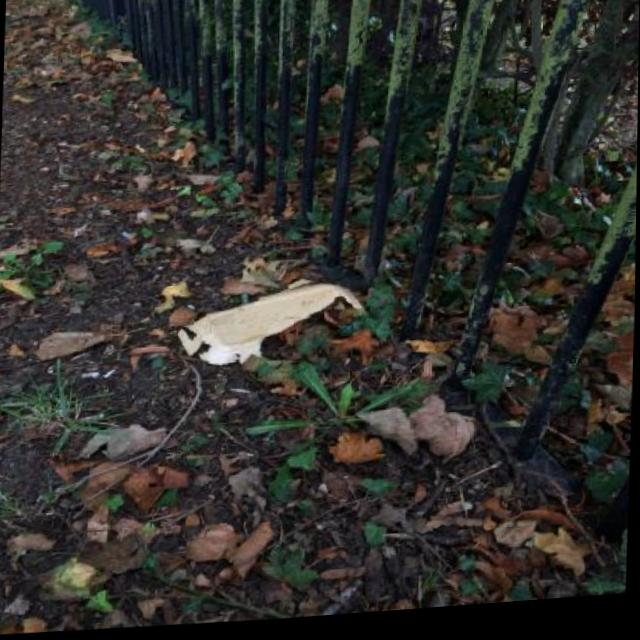foam: (176, 277, 363, 371)
